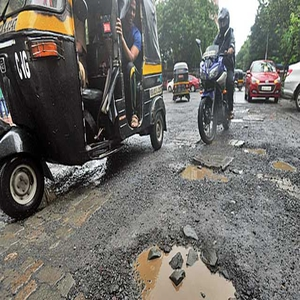pothole: (127, 234, 249, 300), (182, 157, 231, 188)
